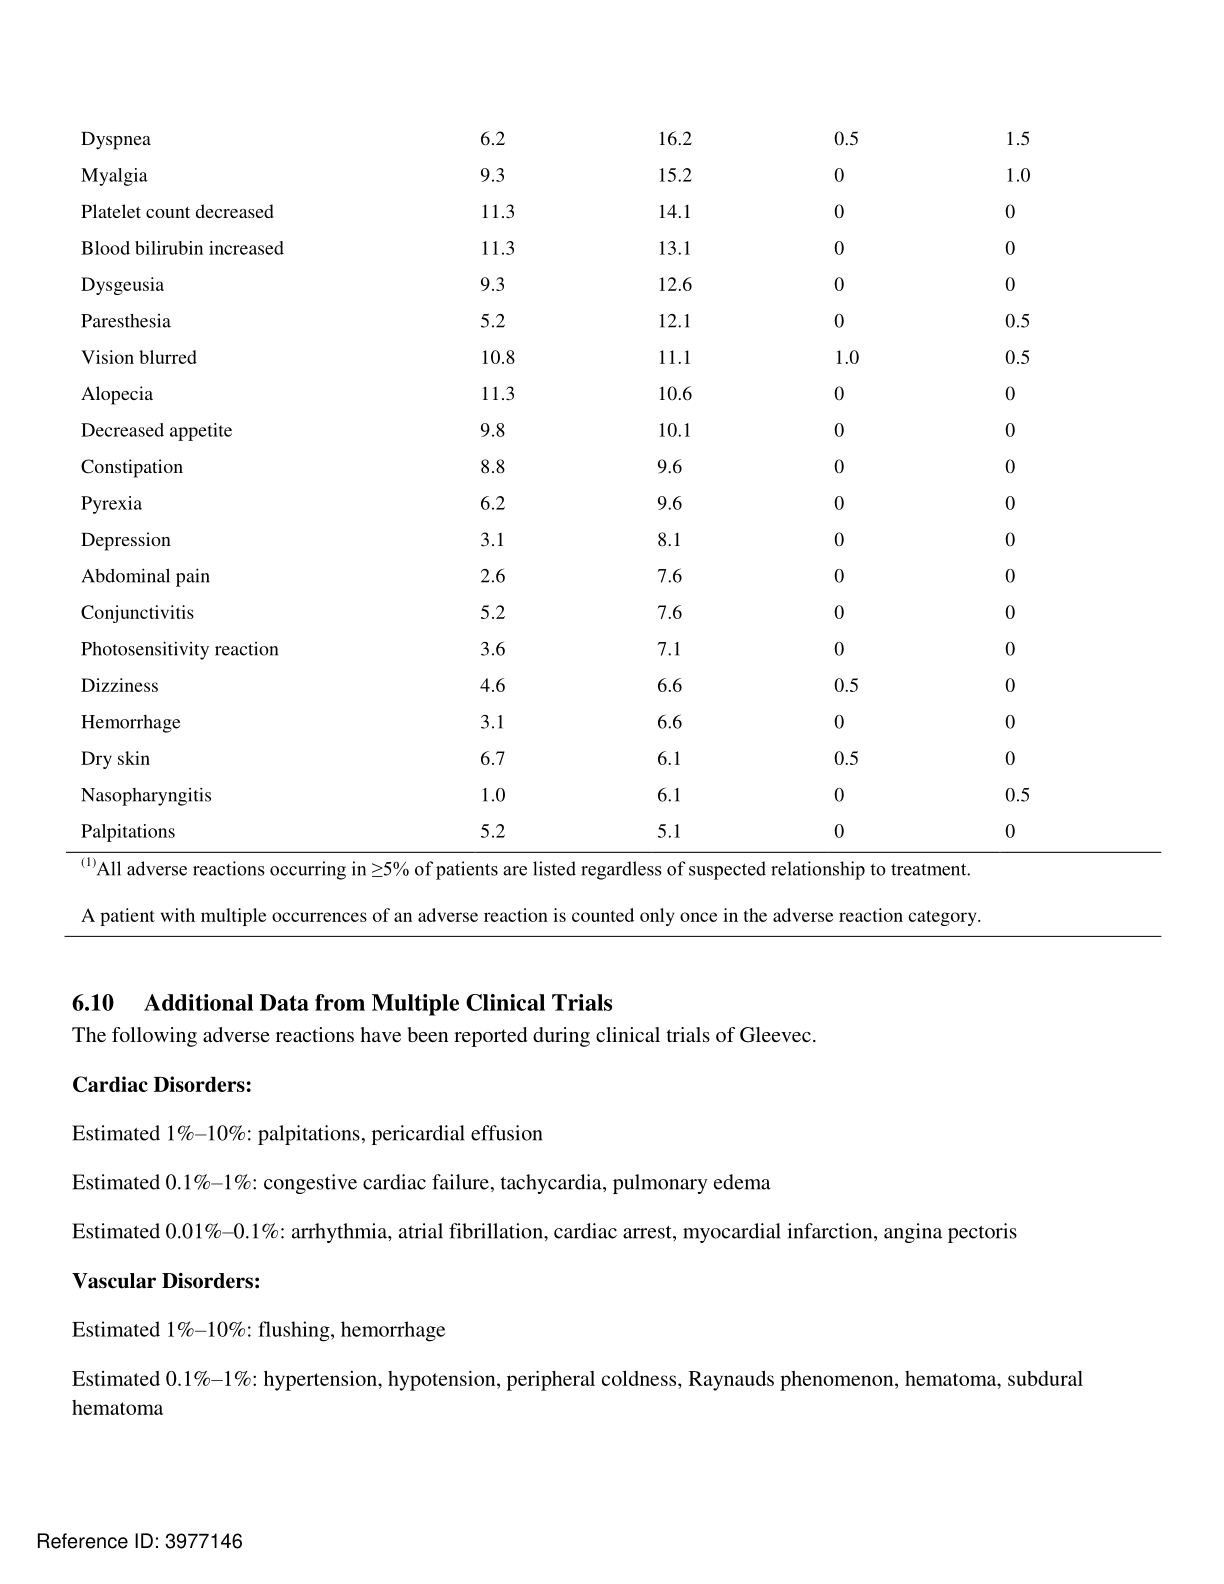partial_lined: (66, 96, 1165, 855)
